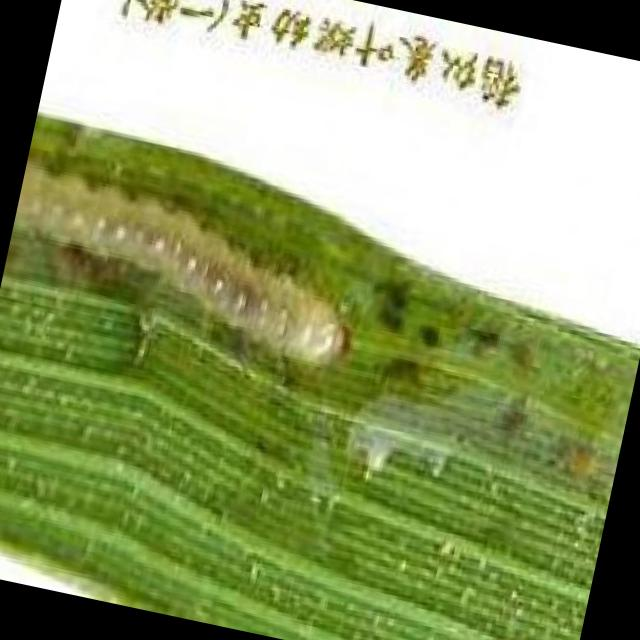leaf-folder: (0, 103, 405, 421)
